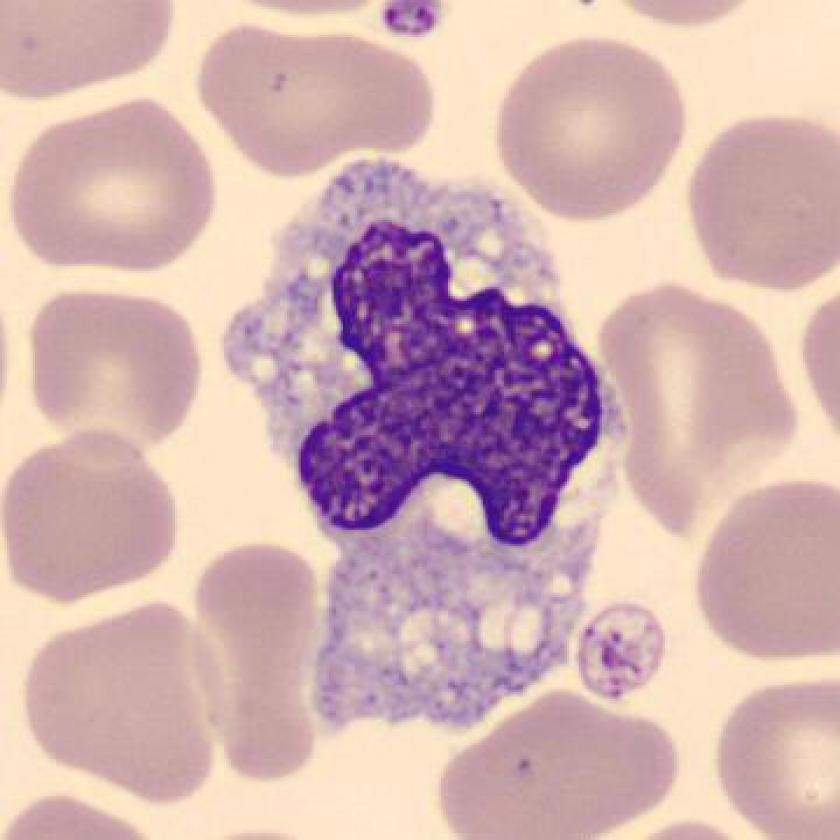monocyte: (202, 131, 654, 765)
